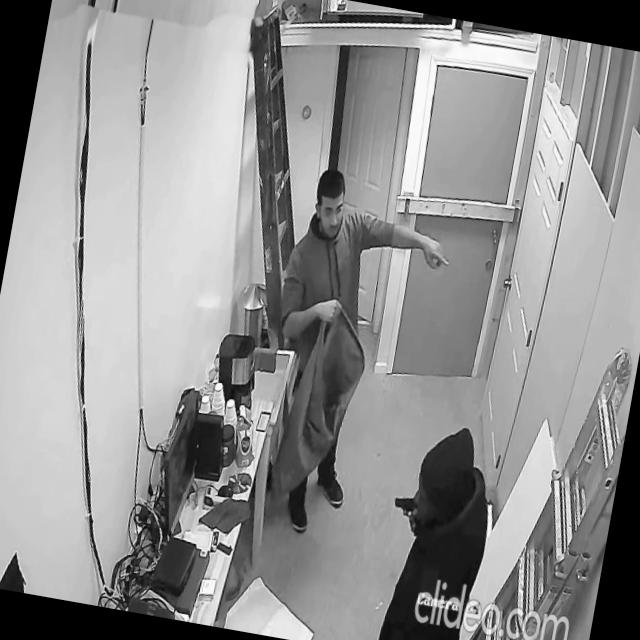gun: (390, 491, 419, 526)
person: (240, 162, 462, 551)
person with a gun: (367, 415, 505, 640)
